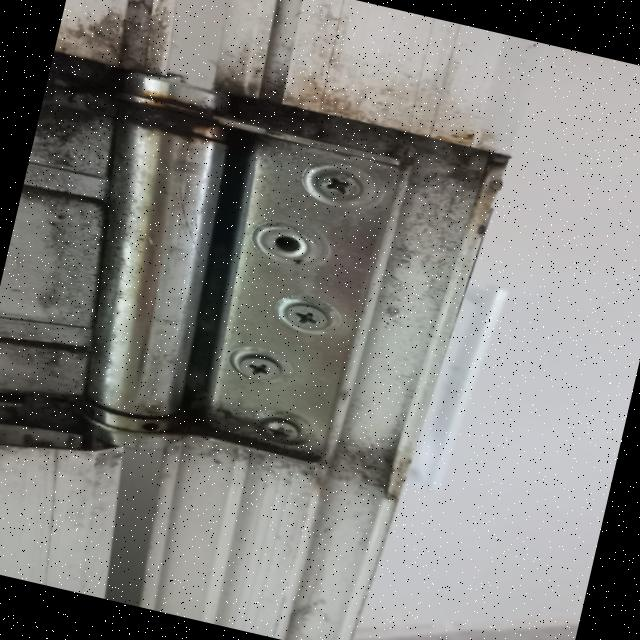Phillips: (306, 167, 371, 206), (278, 298, 338, 340), (248, 411, 304, 446), (238, 352, 282, 379)
